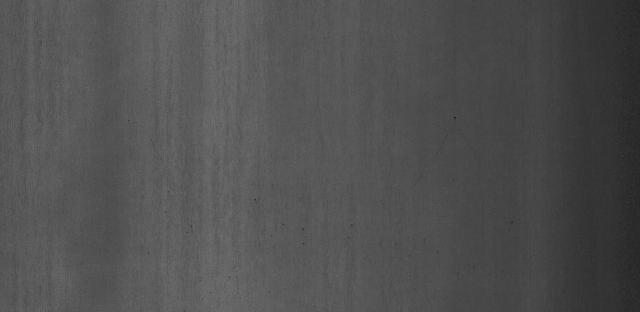silk_spot: (154, 21, 278, 280)
